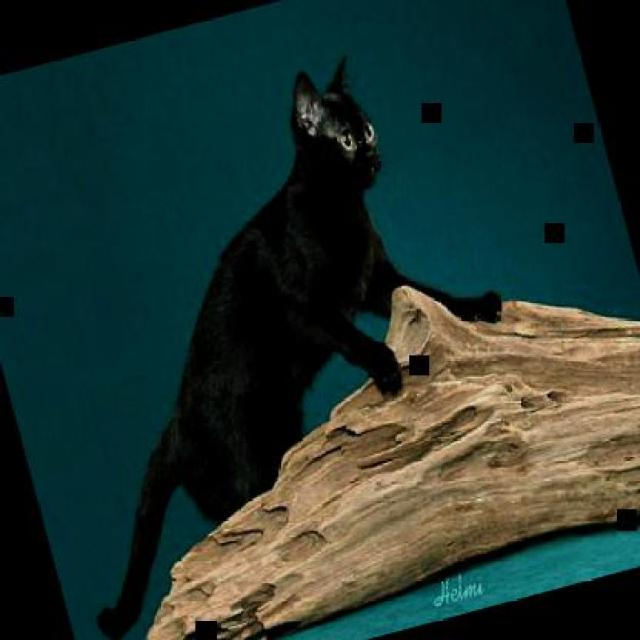cat: (0, 31, 562, 638)
